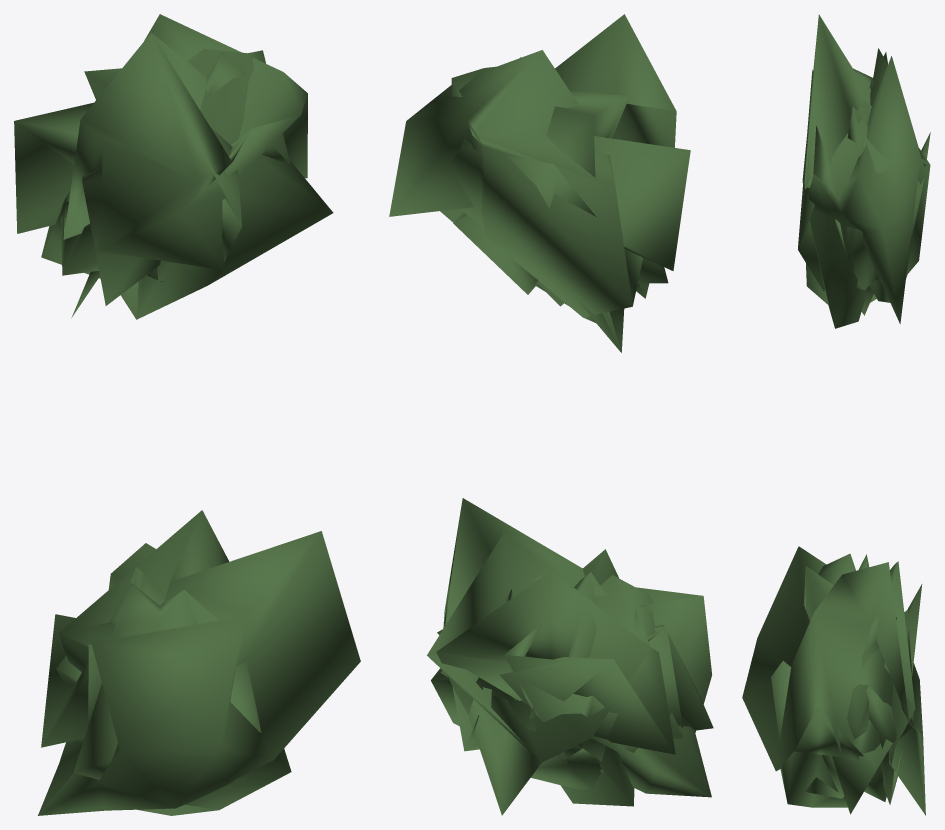
The model's file is batch_VEG_n002_n001.glb.
The picture shows the model from 3 angles, left to right: view 1: azimuth 30°, elevation 25°; view 2: azimuth 150°, elevation 25°; view 3: azimuth 270°, elevation 25°; orthographic projection. The views are drawn at different scales.
Visible parts, largest first — view 1: SAR_Bush_0219.001; view 2: SAR_Bush_0219.001; view 3: SAR_Bush_0219.001.
Part boxes in pixels (x1=…): SAR_Bush_0219.001: x1=14, y1=14, x2=360, y2=815; SAR_Bush_0219.001: x1=389, y1=14, x2=713, y2=815; SAR_Bush_0219.001: x1=742, y1=14, x2=930, y2=815.
Size of the model in its own units: 2.64 by 6.74 by 1.48.
